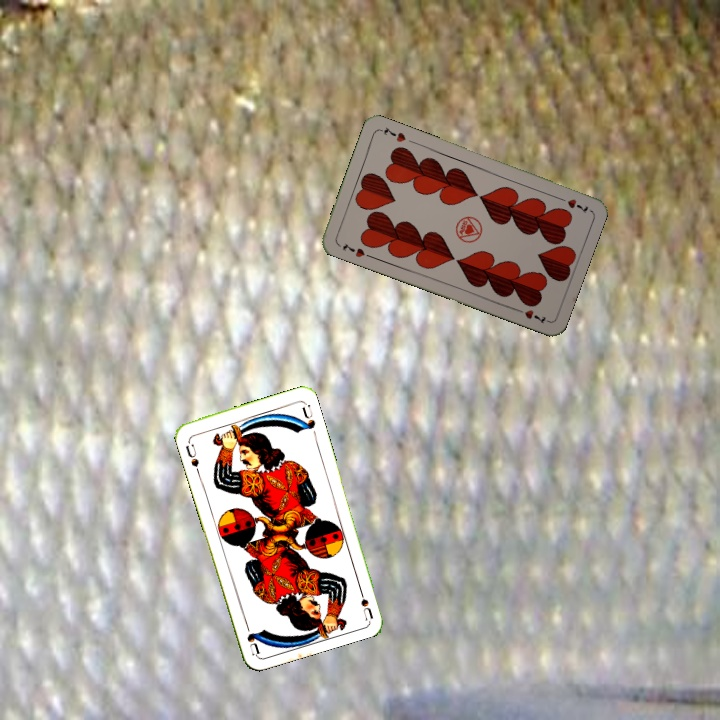H7: (553, 192, 591, 215), (339, 239, 367, 260)
SU: (354, 581, 375, 622), (181, 436, 202, 476)
